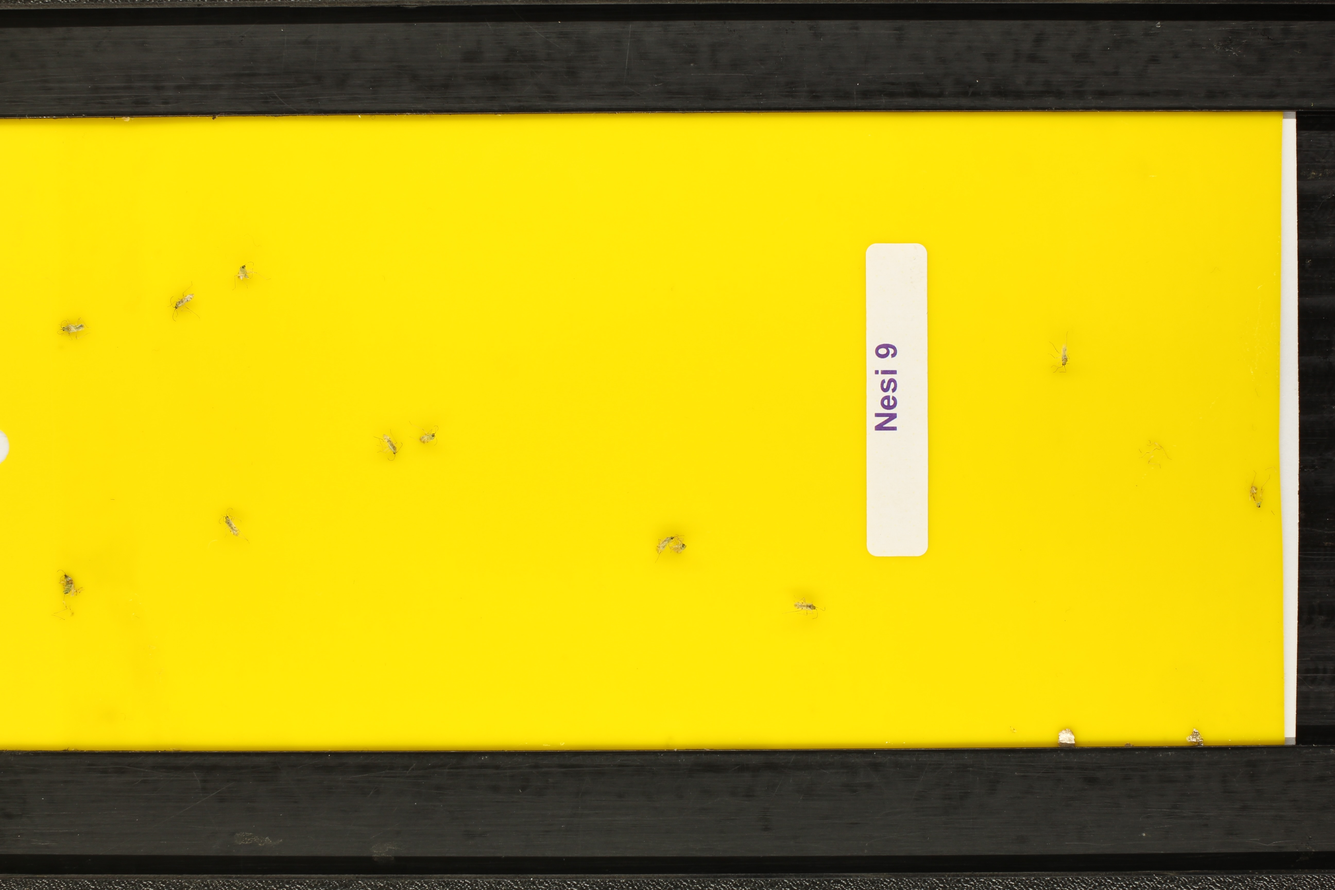NC: (780, 585, 828, 623), (1047, 334, 1080, 382), (219, 508, 252, 549), (170, 286, 202, 323), (413, 421, 446, 454), (56, 569, 88, 600), (57, 315, 92, 342), (230, 261, 258, 292), (652, 529, 677, 563), (376, 433, 404, 463)
